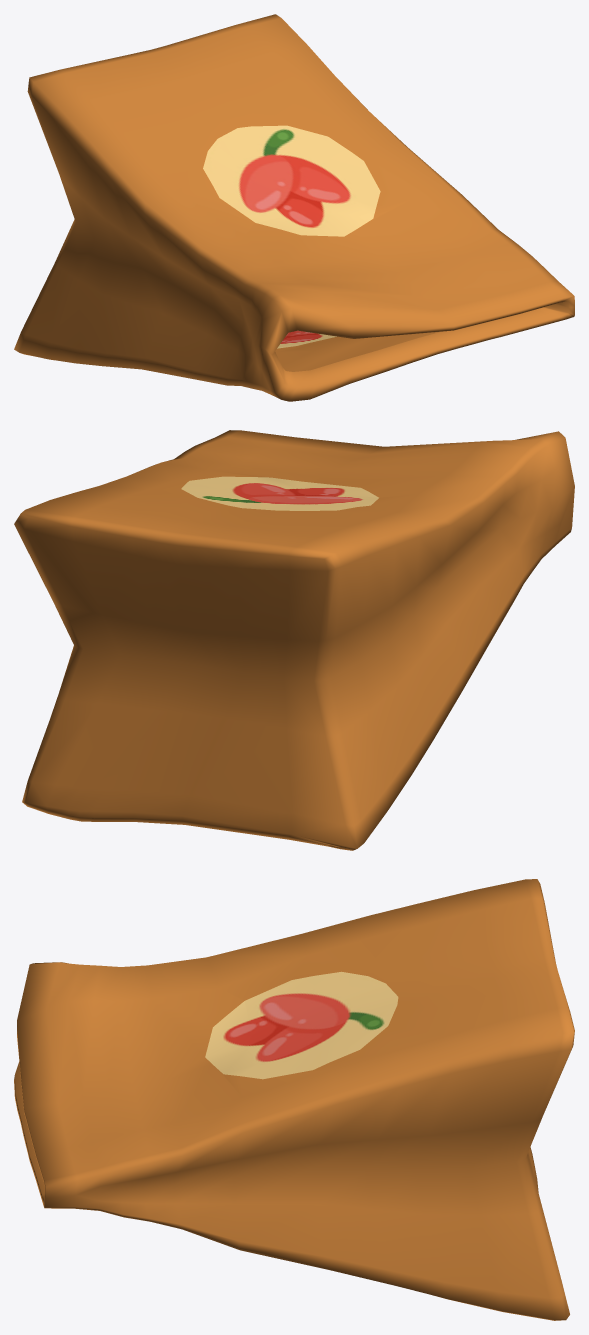
File: Fertilizer-Animated.fbx
3 views of the same model, one above another, from view 1: azimuth 30°, elevation 25°; view 2: azimuth 150°, elevation 25°; view 3: azimuth 270°, elevation 25° (orthographic). The views are drawn at different scales.
Parts seen in each view (by area): view 1: Fertilizer-Animated; view 2: Fertilizer-Animated; view 3: Fertilizer-Animated.
Part boxes in pixels (x1,y1,x2,y2): Fertilizer-Animated: (14,14,574,401); Fertilizer-Animated: (14,430,574,850); Fertilizer-Animated: (14,879,574,1320).
Size of the model in its own units: 8.27 by 6.67 by 10.97.
